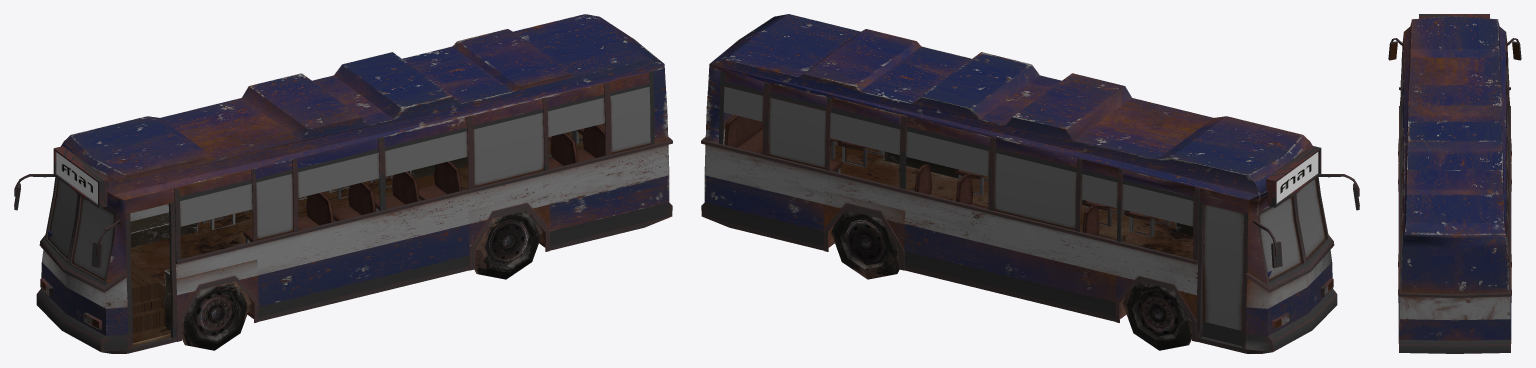
File: Bus4.fbx
The picture shows the model from 3 angles, left to right: view 1: azimuth 30°, elevation 25°; view 2: azimuth 150°, elevation 25°; view 3: azimuth 270°, elevation 25°; orthographic projection. The views are drawn at different scales.
Parts seen in each view (by area): view 1: Cube.003, Cube.005, Cube.001, Cube.004, Cube.006, Cube.002, Cube.011, Cube.007, Circle.001, Cube.061, Circle.005, Circle.004 (+7 smaller); view 2: Cube.003, Cube.005, Cube.001, Cube.004, Cube.006, Cube.002, Circle.001, Cube.061, Circle.005, Circle.004, Circle.002, Cube.050 (+1 smaller); view 3: Cube.003, Cube.001, Cube.004, Cube.005, Cube.061, Cube.010, Cube.002.
Boxes of the visible parts, <box> form: Cube.003: <box>41,14,669,335</box>; Cube.005: <box>48,86,650,280</box>; Cube.001: <box>36,71,672,352</box>; Cube.004: <box>42,144,669,308</box>; Cube.006: <box>131,131,583,325</box>; Cube.002: <box>102,203,670,353</box>; Cube.011: <box>131,262,170,346</box>; Cube.007: <box>130,157,467,329</box>; Circle.001: <box>182,281,251,350</box>; Cube.061: <box>53,146,108,208</box>; Circle.005: <box>474,210,542,279</box>; Circle.004: <box>193,289,237,336</box>; Cube.003: <box>704,14,1332,335</box>; Cube.005: <box>723,86,1325,330</box>; Cube.001: <box>701,71,1337,352</box>; Cube.004: <box>704,127,1331,308</box>; Cube.006: <box>830,139,1193,259</box>; Cube.002: <box>703,203,1271,353</box>; Circle.001: <box>1122,281,1191,350</box>; Cube.061: <box>1266,145,1321,207</box>; Circle.005: <box>831,210,899,279</box>; Circle.004: <box>1136,289,1180,336</box>; Circle.002: <box>844,218,889,265</box>; Cube.050: <box>724,115,762,147</box>; Cube.003: <box>1398,16,1511,340</box>; Cube.001: <box>1398,46,1511,353</box>; Cube.004: <box>1399,296,1510,320</box>; Cube.005: <box>1401,66,1508,267</box>; Cube.061: <box>1419,14,1489,18</box>; Cube.010: <box>1389,42,1520,60</box>; Cube.002: <box>1398,139,1511,302</box>.
Bounding box in the file's own units: 1488 × 475 × 375.
